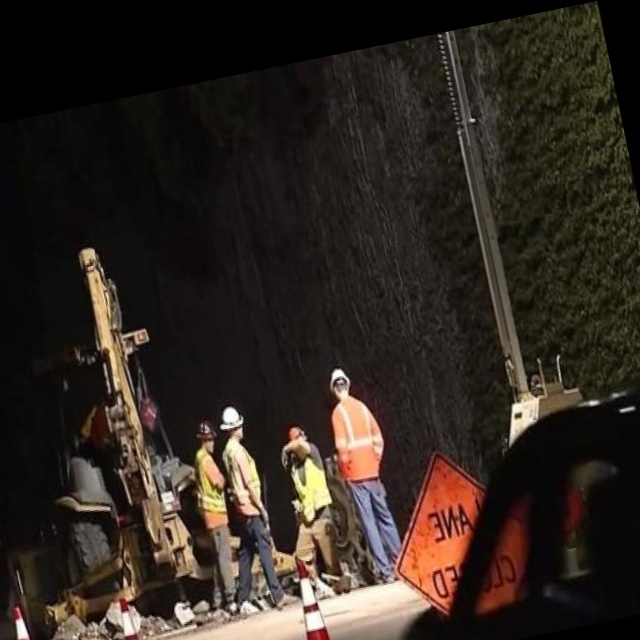Con_Casco: (216, 403, 248, 439)
Con_Chaleco: (330, 396, 383, 483), (220, 437, 267, 520), (287, 444, 331, 520), (189, 448, 231, 522)
